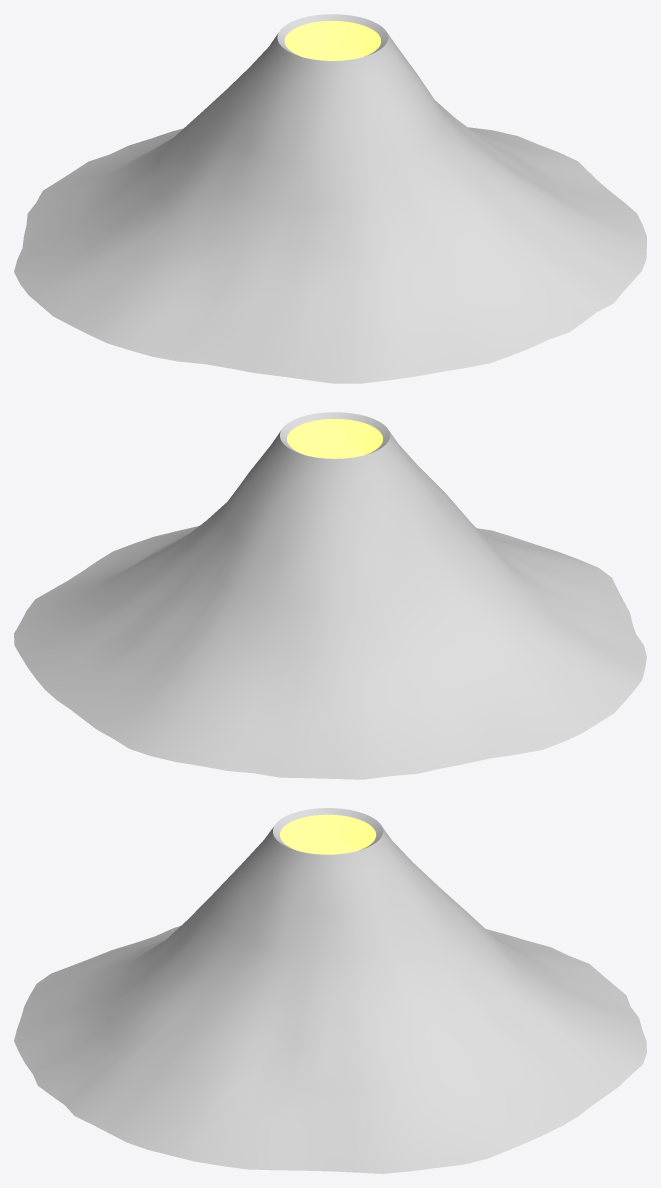
The model's file is dt_volcano.fbx.
3 views of the same model, one above another, from view 1: azimuth 30°, elevation 25°; view 2: azimuth 150°, elevation 25°; view 3: azimuth 270°, elevation 25° (orthographic).
Parts seen in each view (by area): view 1: basalt_1, lava_1; view 2: basalt_1, lava_1; view 3: basalt_1, lava_1.
Part boxes in pixels (box(x1,y1,x2,y2)): basalt_1: box(14, 14, 646, 383); lava_1: box(284, 21, 380, 60); basalt_1: box(14, 412, 646, 779); lava_1: box(287, 419, 382, 458); basalt_1: box(14, 808, 646, 1173); lava_1: box(280, 814, 376, 854).
Bounding box in the file's own units: 12.64 × 4.6 × 12.57.
